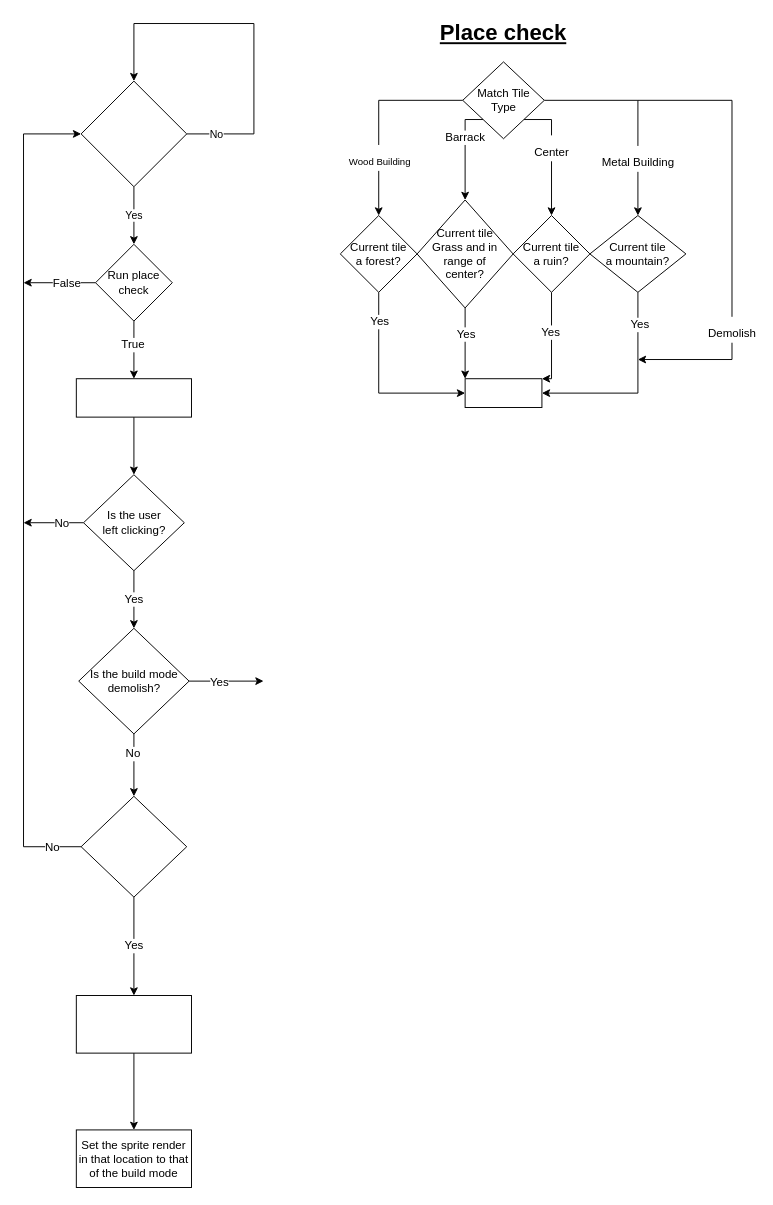
This 773x1205 diagram has some shape labels left out. Here are the shapes that lost their labels. From the top down, the box of each, then its label:
(80, 80, 187, 187): Has the user selected a build mode?
(75, 378, 192, 417): Set Follower to the build mode
(464, 378, 542, 408): Return True
(80, 795, 187, 897): Does the user have enough resources?
(75, 995, 192, 1053): Create a building entity with the appropriate components
